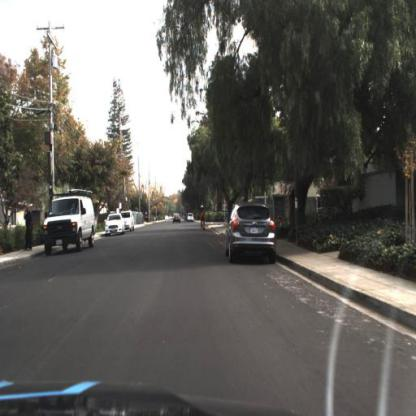biker: (199, 202, 209, 237), (200, 202, 209, 236)
car: (42, 188, 97, 258), (224, 201, 277, 267), (102, 212, 129, 238), (123, 210, 138, 231)
pedestrian: (26, 203, 35, 252)
